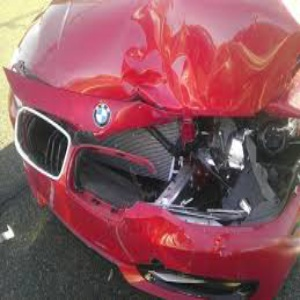bonnet: (79, 5, 284, 116)
bumper_scratch: (132, 223, 285, 263)
